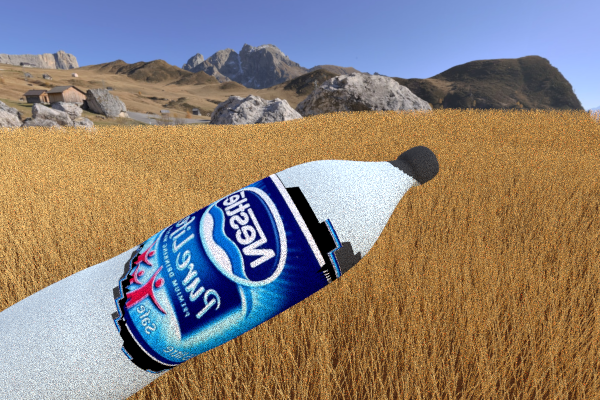Plastic Bottle: (0, 145, 439, 400), (231, 122, 276, 152), (90, 121, 137, 142)
